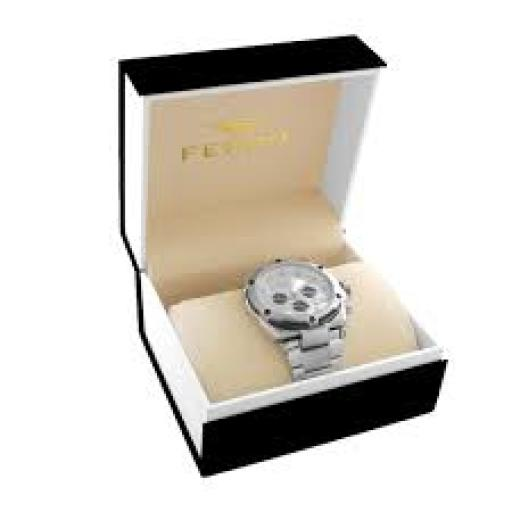KolSaati: (198, 219, 372, 428)
